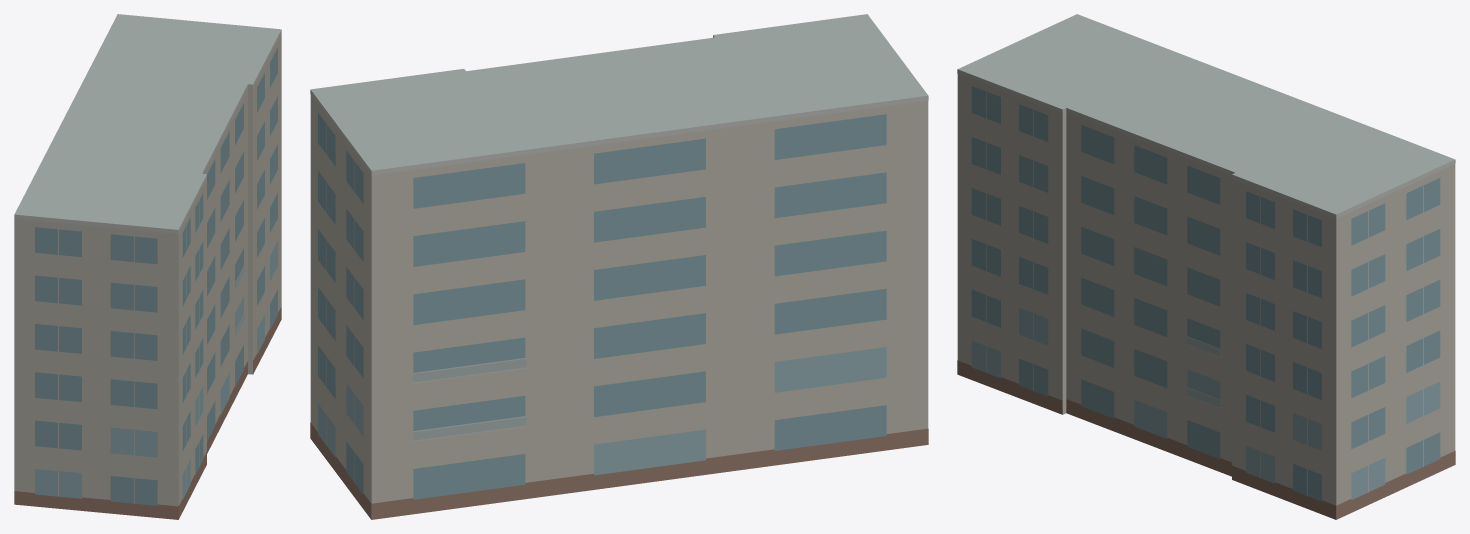
Rendered from survey-upis-32545323.glb.
3 views of the same model, side by side, from view 1: azimuth 30°, elevation 25°; view 2: azimuth 150°, elevation 25°; view 3: azimuth 270°, elevation 25° (orthographic). The views are drawn at different scales.
Visible parts, largest first — view 1: survey-upis-32545323.tmp; view 2: survey-upis-32545323.tmp; view 3: survey-upis-32545323.tmp.
Boxes of the visible parts, x1=… form: survey-upis-32545323.tmp: x1=14, y1=14, x2=281, y2=519; survey-upis-32545323.tmp: x1=310, y1=14, x2=928, y2=519; survey-upis-32545323.tmp: x1=957, y1=14, x2=1455, y2=519.
Size of the model in its own units: 24.38 by 17.3 by 25.57.
